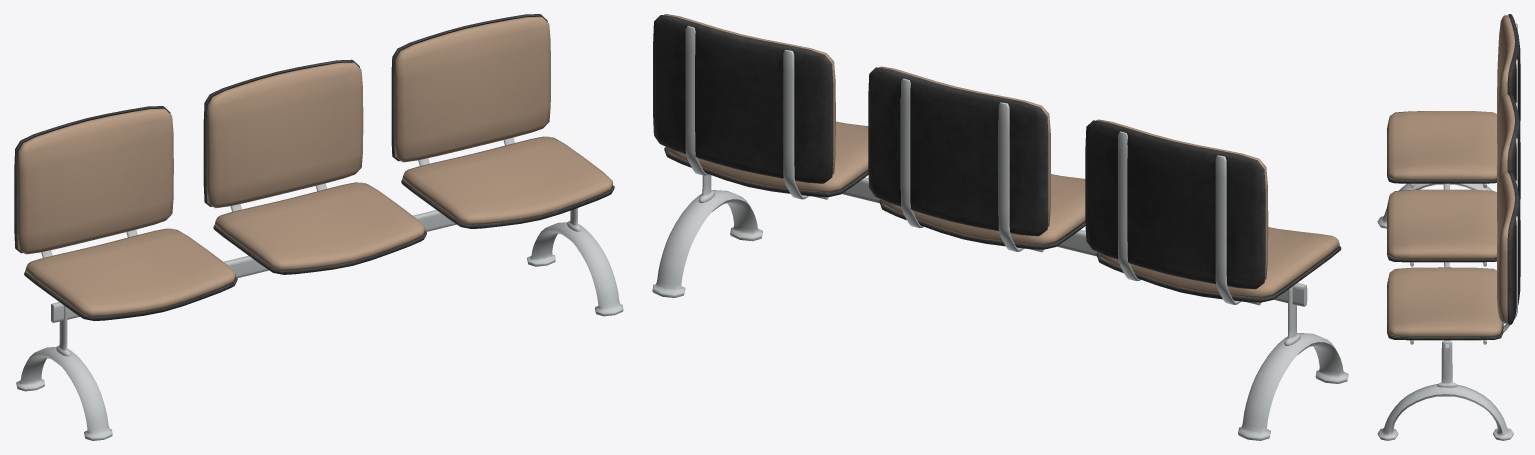
File: bench_with_three_seats.glb
3 views of the same model, side by side, from view 1: azimuth 30°, elevation 25°; view 2: azimuth 150°, elevation 25°; view 3: azimuth 270°, elevation 25° (orthographic). The views are drawn at different scales.
Visible parts, largest first — view 1: Chair; view 2: Chair; view 3: Chair.
Part boxes in pixels (x1=…): Chair: x1=14, y1=14, x2=623, y2=440; Chair: x1=652, y1=14, x2=1348, y2=440; Chair: x1=1377, y1=14, x2=1520, y2=440.
Bounding box in the file's own units: 215 × 93.65 × 58.08.
Materials: 1 (1 with a texture image).
